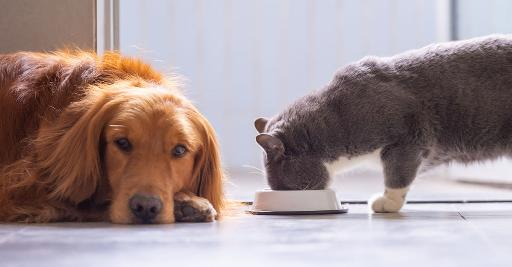cat_eating: (252, 35, 512, 215)
